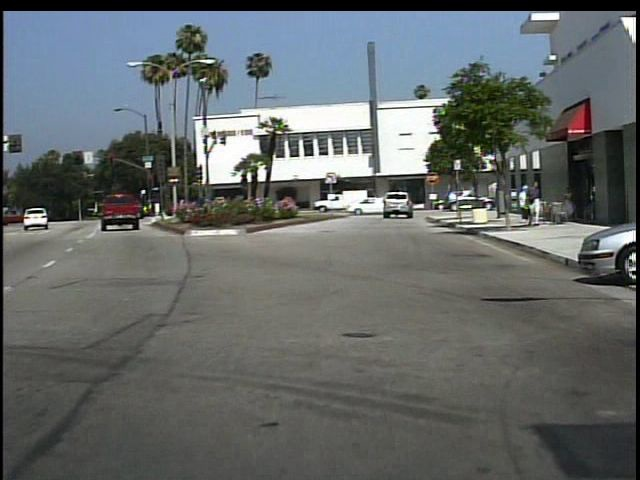person: (527, 179, 544, 227), (370, 189, 391, 218), (561, 183, 575, 223), (515, 182, 528, 221)
